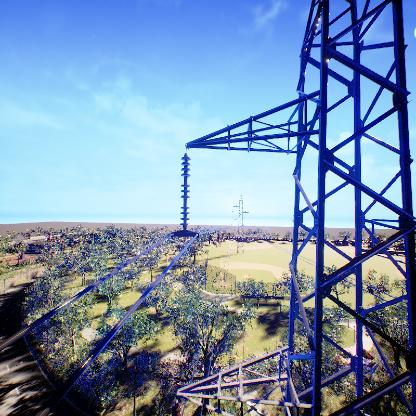insulator: (178, 153, 193, 231)
